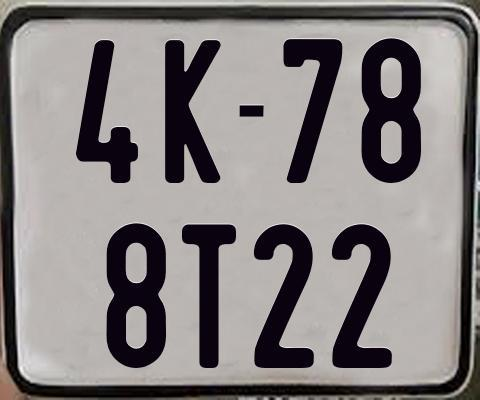2: (252, 221, 316, 371), (330, 223, 395, 369)
4: (75, 38, 141, 187)
7: (280, 38, 341, 184)
8: (103, 221, 169, 370), (361, 36, 423, 184)
K: (162, 40, 222, 185)
T: (180, 221, 236, 370)
